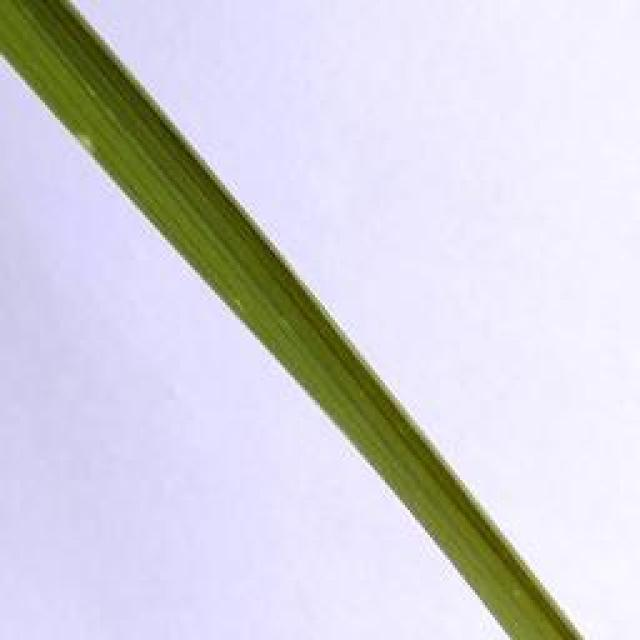Bacterial_Blight: (68, 121, 110, 168)
